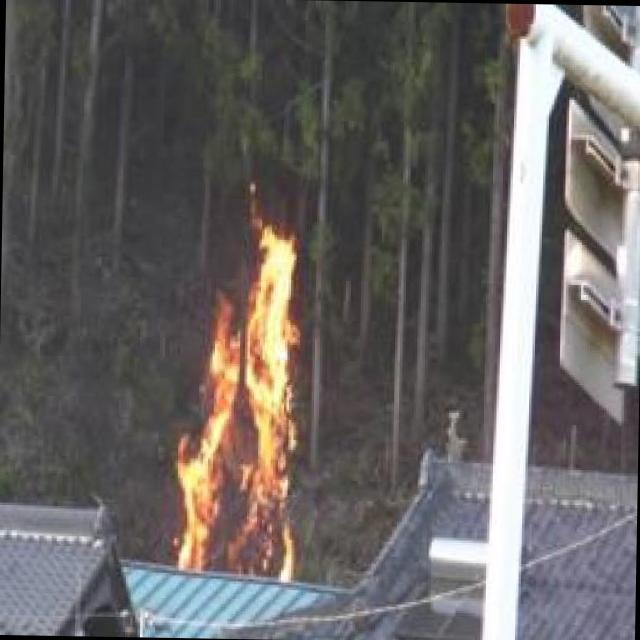Fire: (168, 175, 308, 586)
